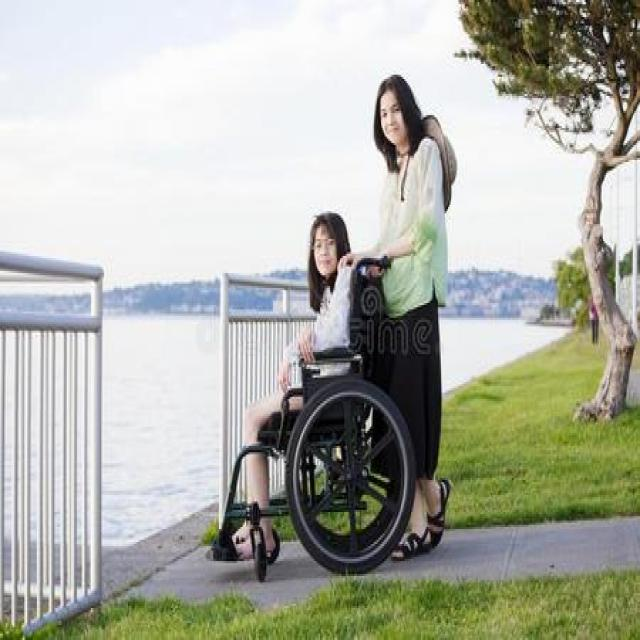wheelchairs: (188, 249, 418, 586)
